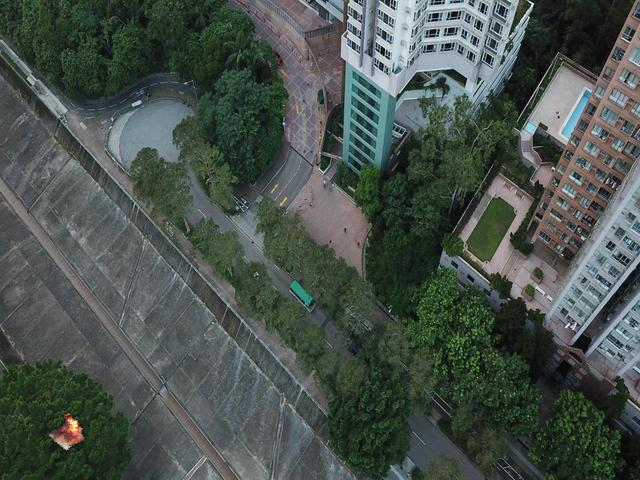fire: (46, 412, 85, 451)
